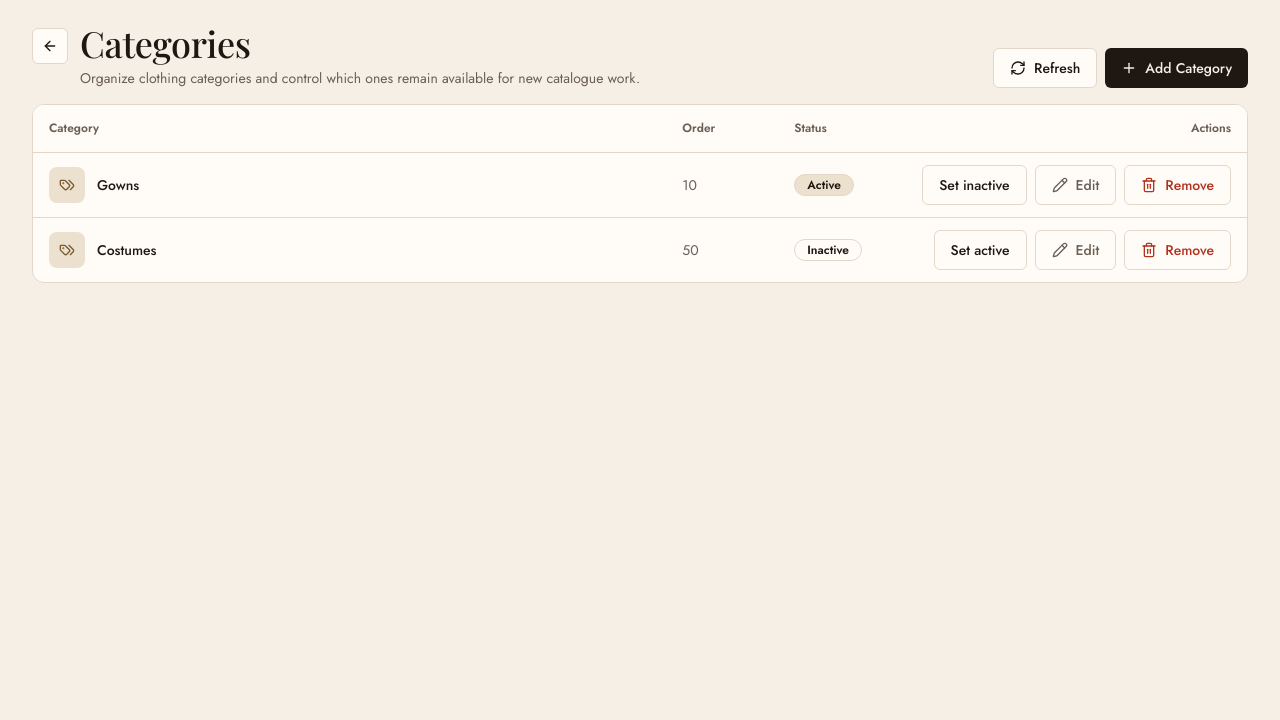
CategoriesPage › removes an unused category and deactivates a referenced category safely
expect the text "Gowns" is shown: met, box [97,175,139,195]
What coordinates should you click on to do the following:
click the button with aria-label "Remove Costumes"
I would click on:
 (1178, 250)
Its box is [1124,230,1231,270].
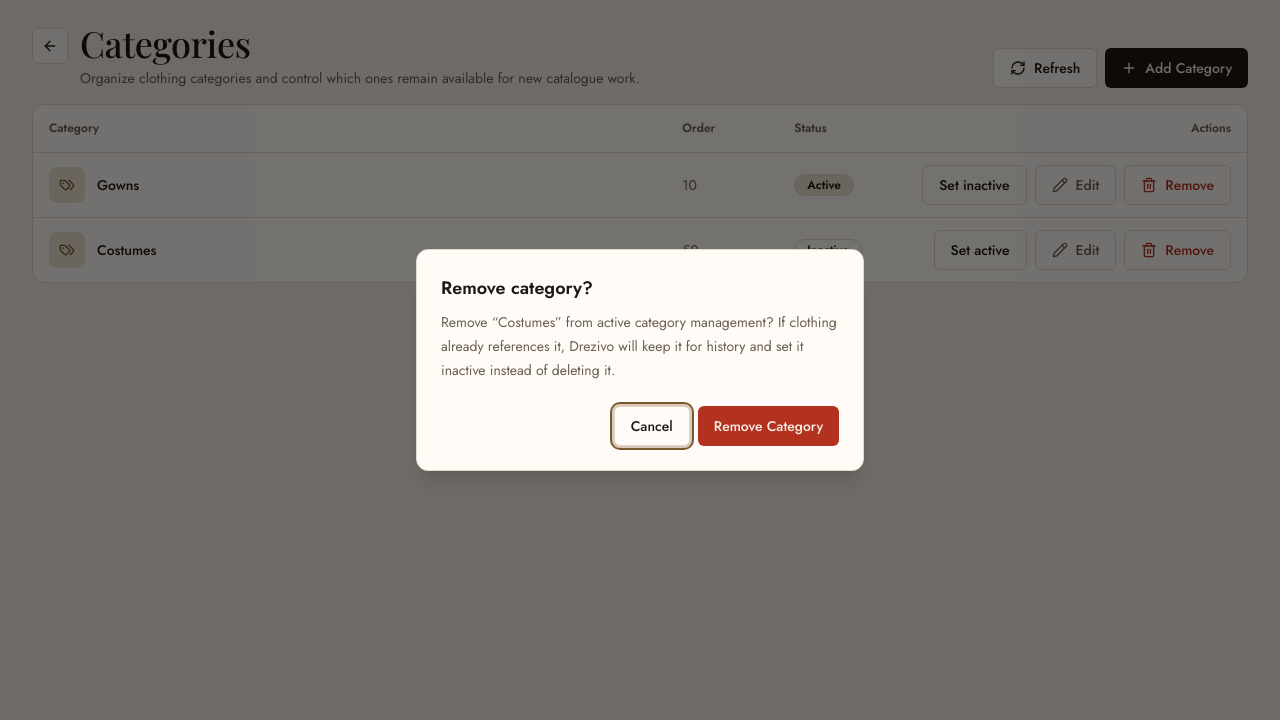
What coordinates should you click on to do the following:
click the button "Remove Category"
I would click on:
 (768, 426)
Its box is [698,406,839,446].
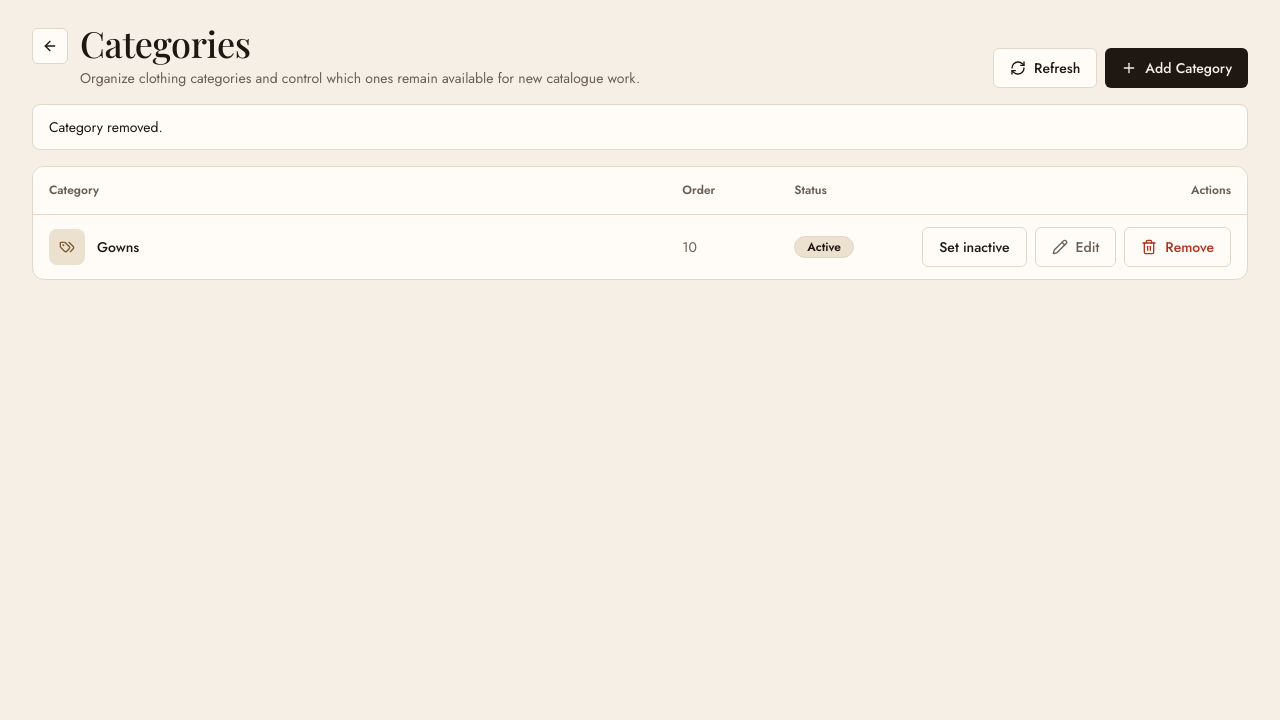
expect the text "Costumes" is gone: met
What coordinates should you click on to do the following:
click the button with aria-label "Remove Gowns"
I would click on:
 (1178, 247)
Its box is [1124,227,1231,267].
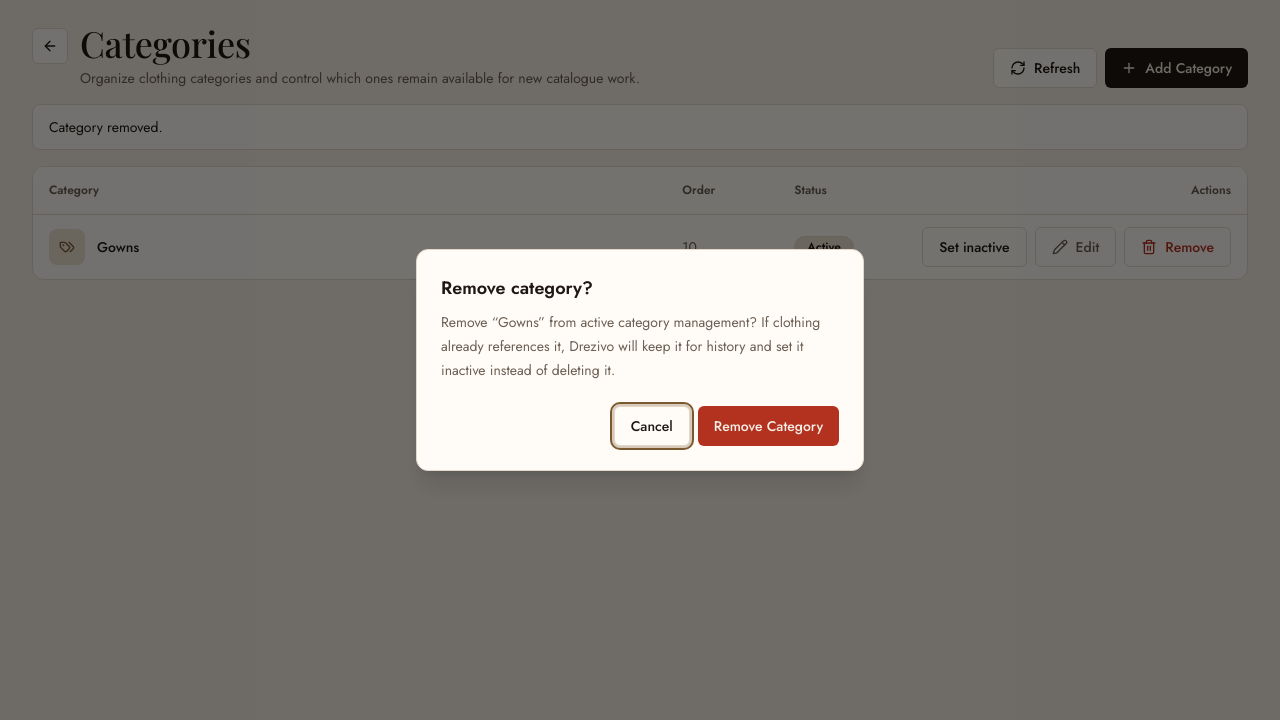
What coordinates should you click on to do the following:
click the button "Remove Category"
I would click on:
 (768, 426)
Its box is [698,406,839,446].
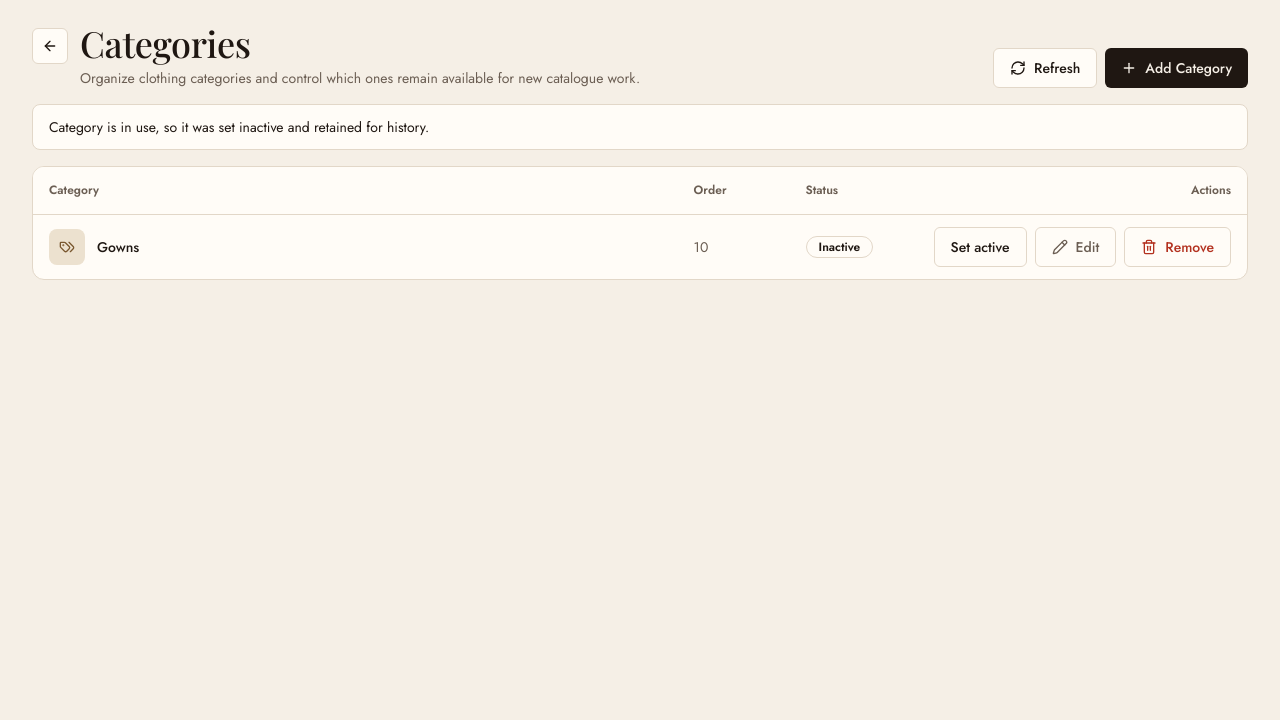
expect the button with aria-label "Show Gowns on storefront" is shown: met, box [934,227,1027,267]
expect the text "Category is in use, so it was set inactive and retained for history." is shown: met, box [32,104,1248,150]
